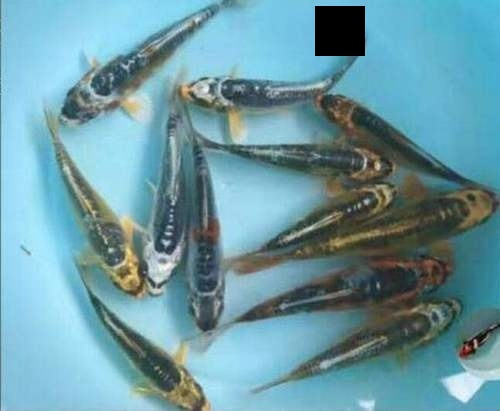fry: (59, 162, 148, 303), (271, 248, 458, 315), (94, 317, 219, 411), (354, 180, 500, 256), (323, 301, 465, 374), (63, 29, 149, 135), (240, 135, 399, 192), (177, 58, 313, 124), (266, 180, 404, 243), (134, 144, 191, 292), (185, 168, 235, 335), (313, 89, 424, 156), (455, 325, 498, 364)
